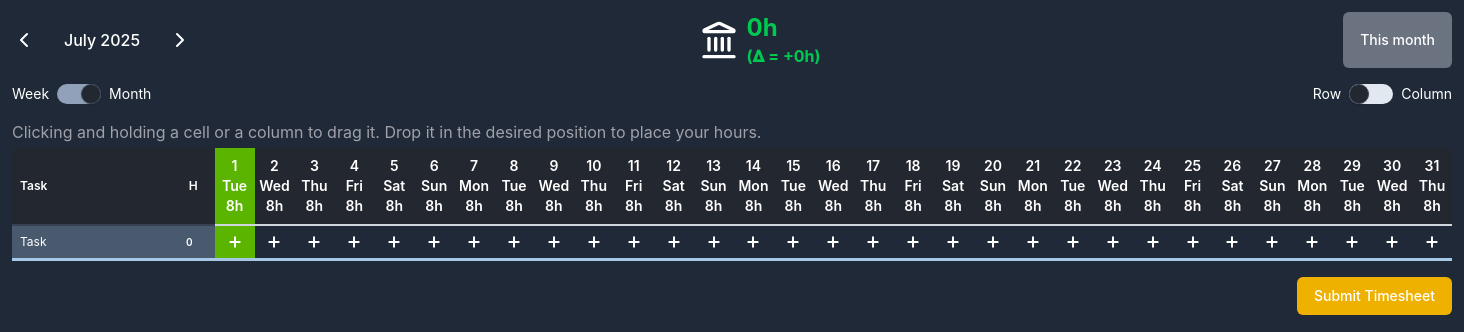
Test: Krm3Calendar › switching to week on current month should select actual week
Click the checkbox with id "switch-month-on". click: {"x": 79, "y": 94}
box: [57,84,101,104]
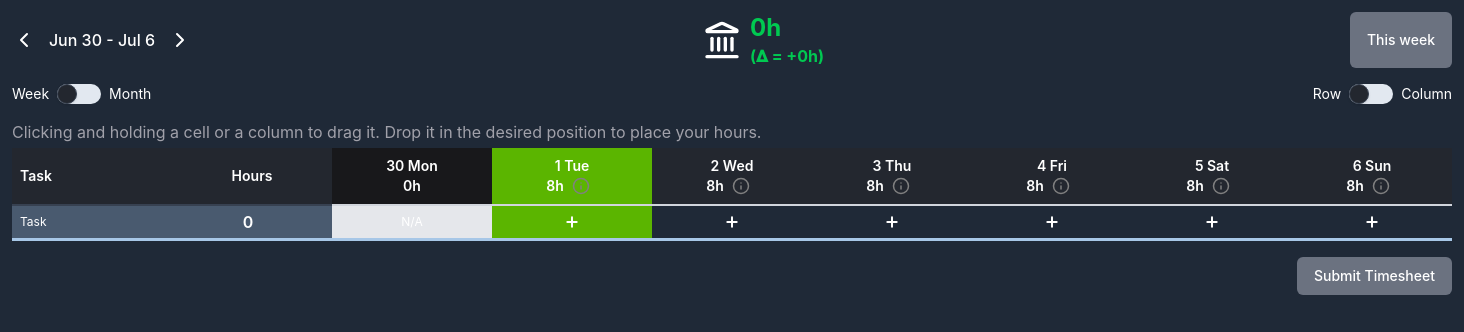
Click the button with id "nav-next-btn". click: {"x": 180, "y": 40}
box: [168,28,192,52]
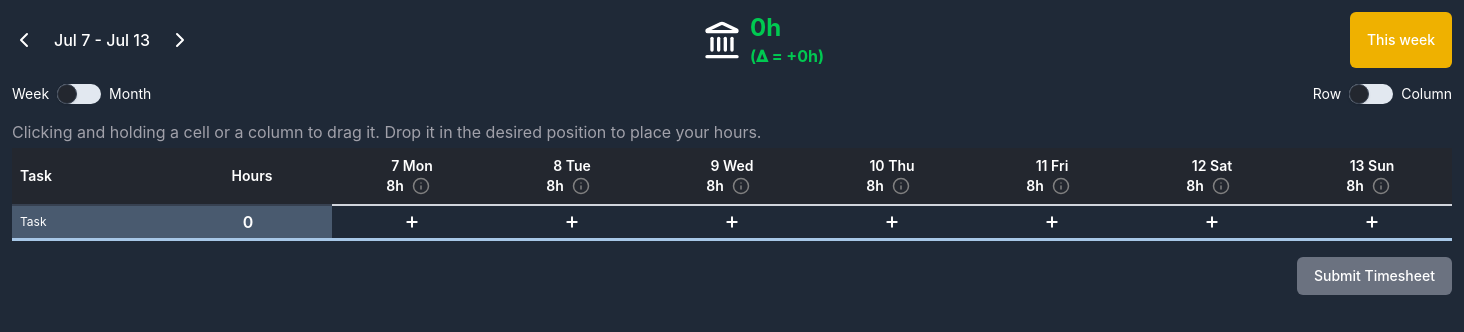
Click the button with id "nav-next-btn". click: {"x": 180, "y": 40}
box: [168,28,192,52]
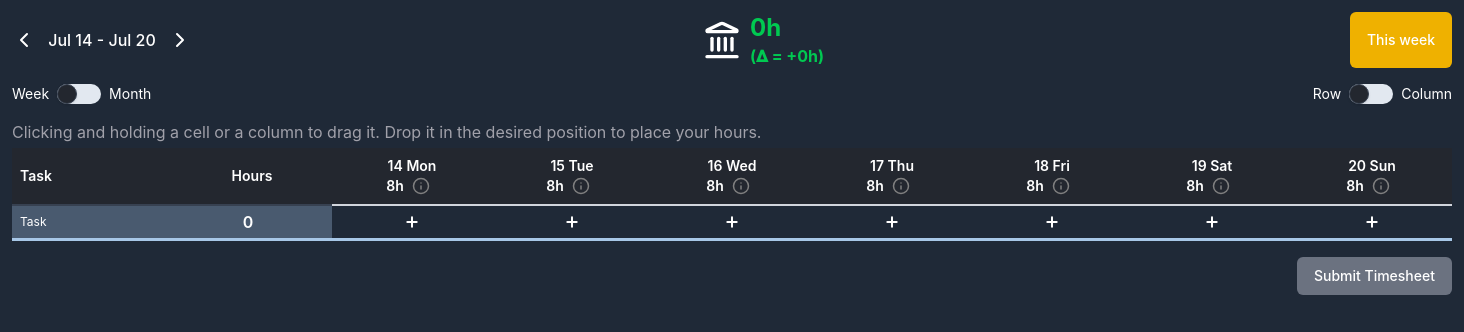
Click the button with id "nav-next-btn". click: {"x": 180, "y": 40}
box: [168,28,192,52]
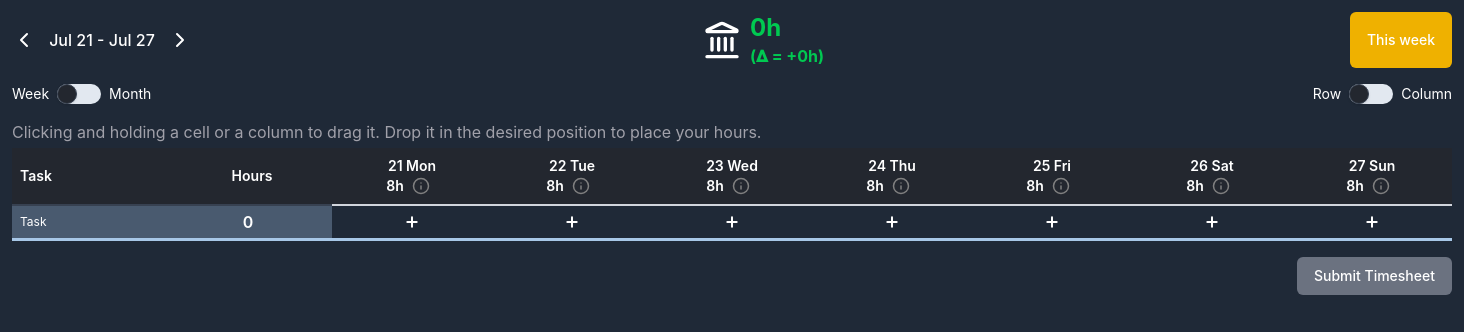
Now the text "Jul 21" is shown, box [49,30,93,50]
Now the text "Jul 27" is shown, box [109,30,155,50]
Click the checkbox with id "switch-month-on". click: {"x": 79, "y": 94}
box: [57,84,101,104]
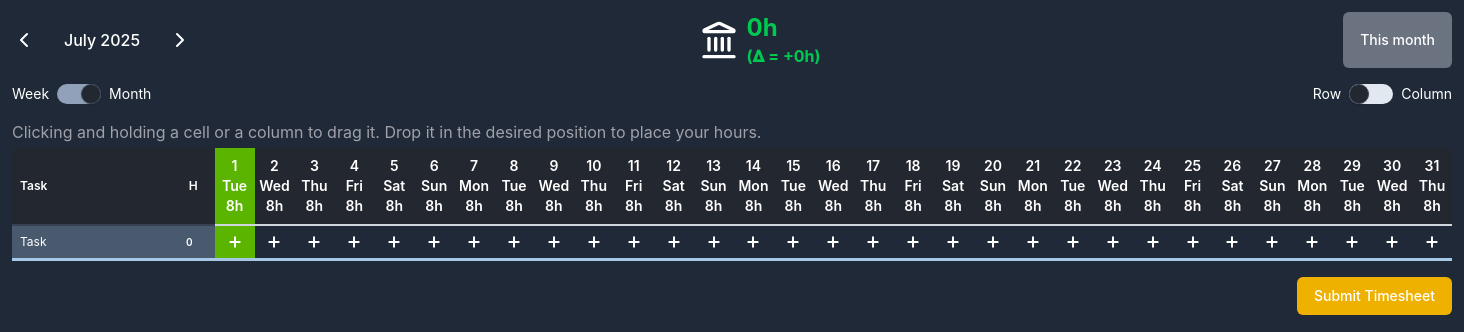
Now the text "July 2025" is shown, box [64,28,140,52]
Click the checkbox with id "switch-month-on". click: {"x": 79, "y": 94}
box: [57,84,101,104]
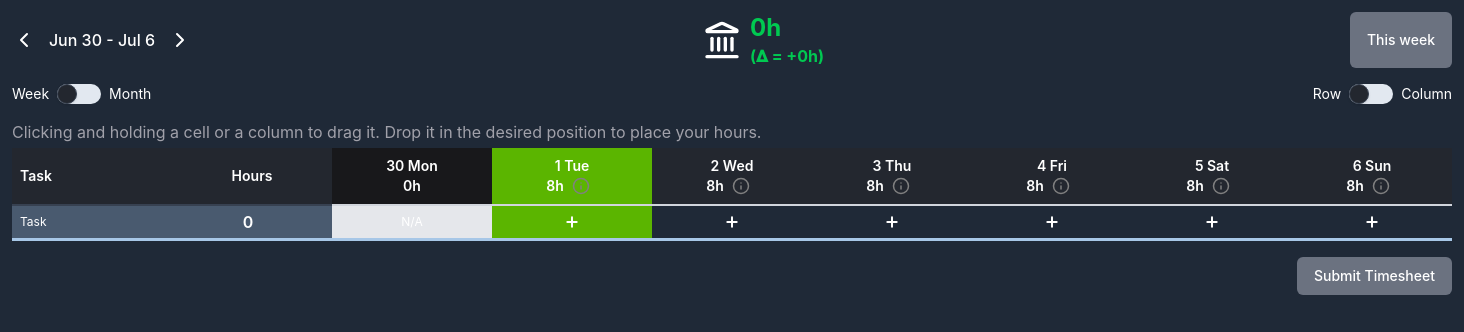
Now the text "Jun 30" is shown, box [49,30,102,50]
Now the text "Jul 6" is shown, box [118,30,155,50]
